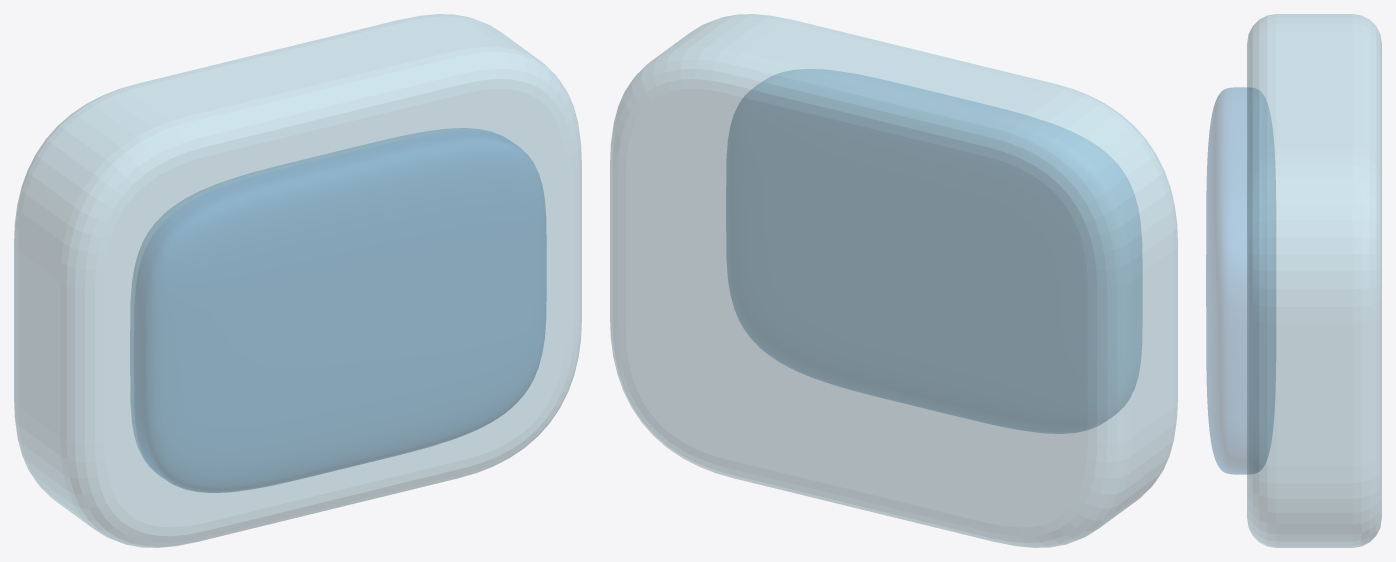
The picture shows the model from 3 angles, left to right: view 1: azimuth 30°, elevation 25°; view 2: azimuth 150°, elevation 25°; view 3: azimuth 270°, elevation 25°; orthographic projection. The views are drawn at different scales.
Parts seen in each view (by area): view 1: pressure-pad, contact-surface; view 2: pressure-pad, contact-surface; view 3: pressure-pad, contact-surface.
Boxes of the visible parts, x1=… form: pressure-pad: x1=14, y1=14, x2=581, y2=547; contact-surface: x1=130, y1=128, x2=546, y2=492; pressure-pad: x1=610, y1=14, x2=1177, y2=547; contact-surface: x1=726, y1=69, x2=1142, y2=433; pressure-pad: x1=1247, y1=14, x2=1381, y2=547; contact-surface: x1=1206, y1=87, x2=1275, y2=474.
Size of the model in its own units: 1.85 by 1.45 by 0.6.
